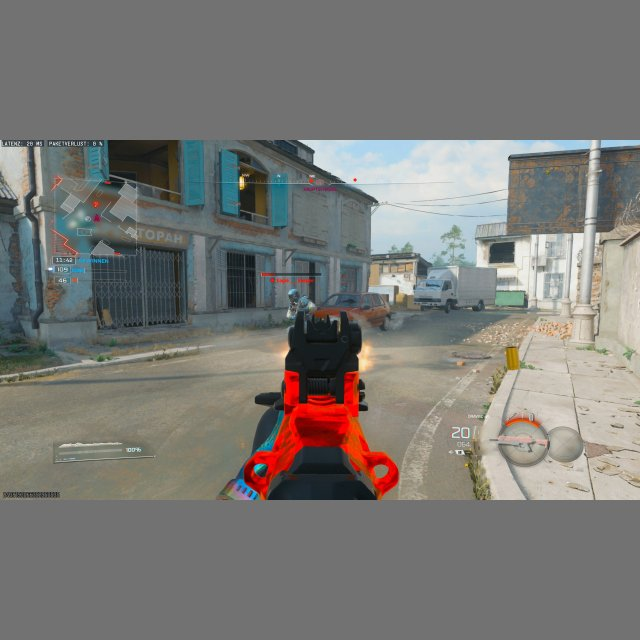head: (288, 289, 299, 303)
player: (285, 288, 310, 320)
